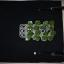leaf: (35, 20, 41, 26), (42, 21, 48, 26), (25, 36, 31, 41), (35, 30, 41, 35), (42, 36, 48, 41), (27, 26, 32, 31), (35, 36, 40, 41), (51, 31, 56, 36), (28, 20, 32, 26), (40, 26, 46, 30), (50, 20, 54, 26), (34, 35, 40, 39), (43, 32, 49, 36), (50, 26, 54, 31), (48, 36, 53, 40), (34, 26, 38, 30), (29, 32, 33, 36), (44, 23, 48, 26), (33, 36, 35, 40), (50, 36, 54, 38), (52, 26, 55, 28)
